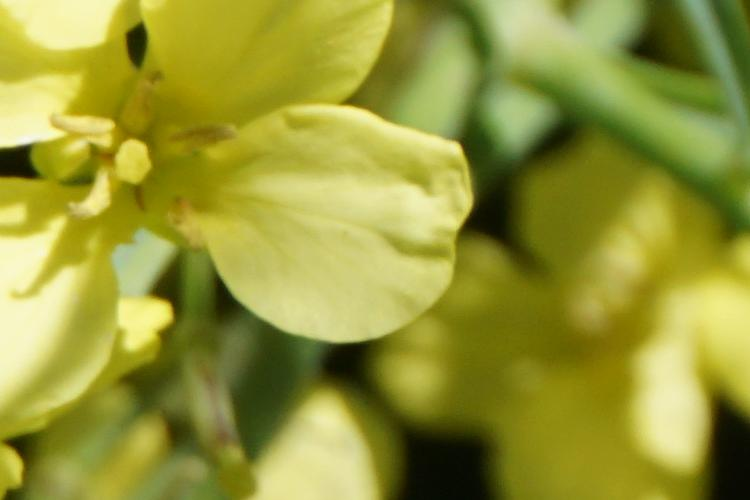yellow: (13, 12, 475, 360)
